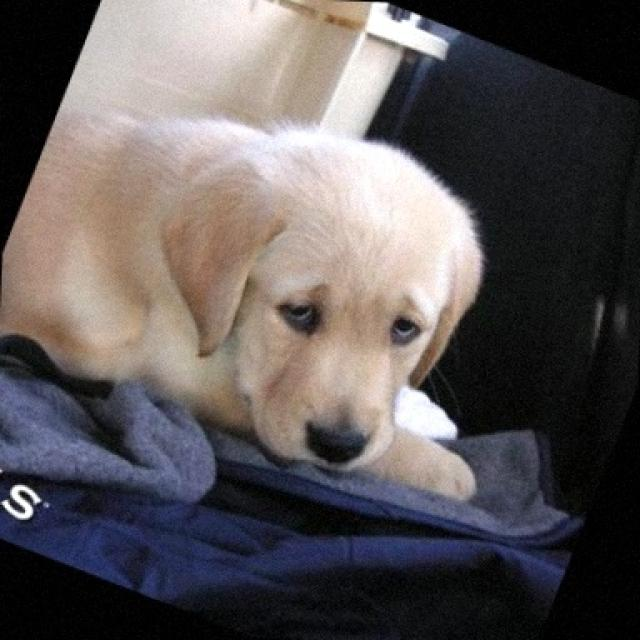sad: (8, 53, 546, 521)
